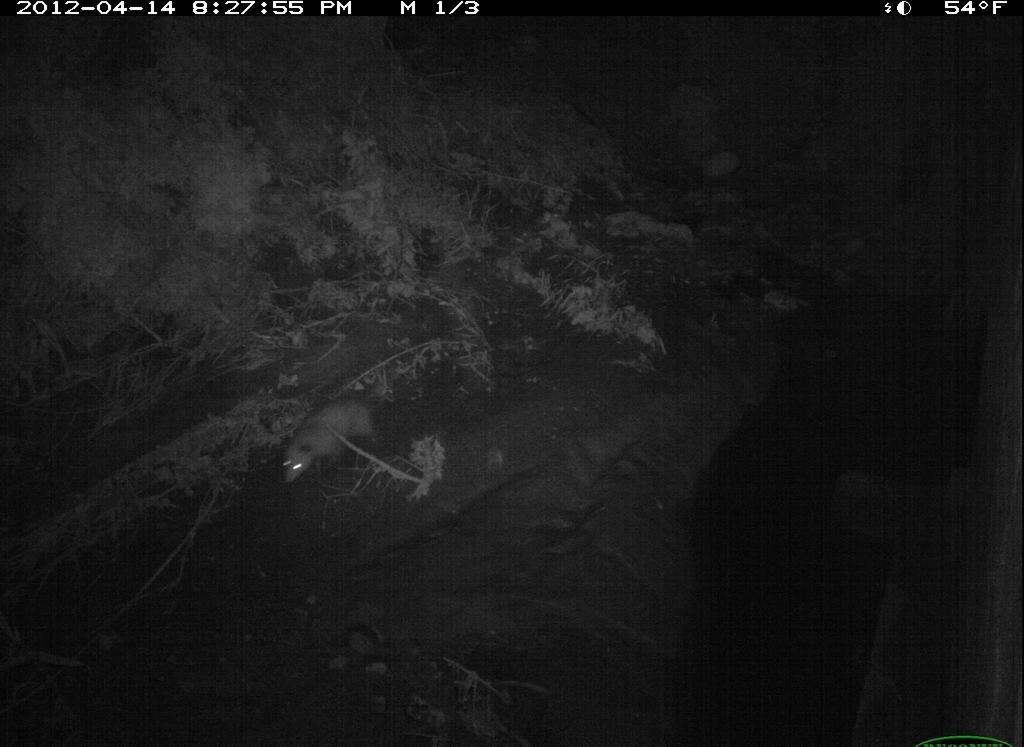opossum: (272, 377, 400, 500)
